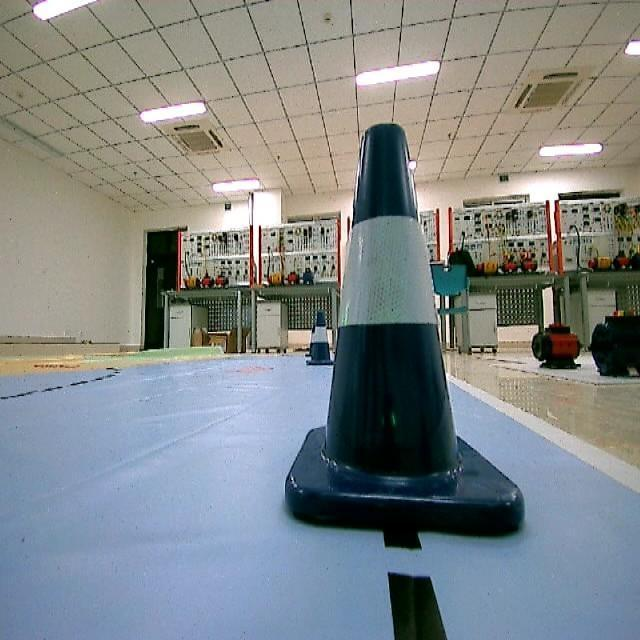obstacle: (284, 123, 532, 544), (301, 306, 336, 370)
